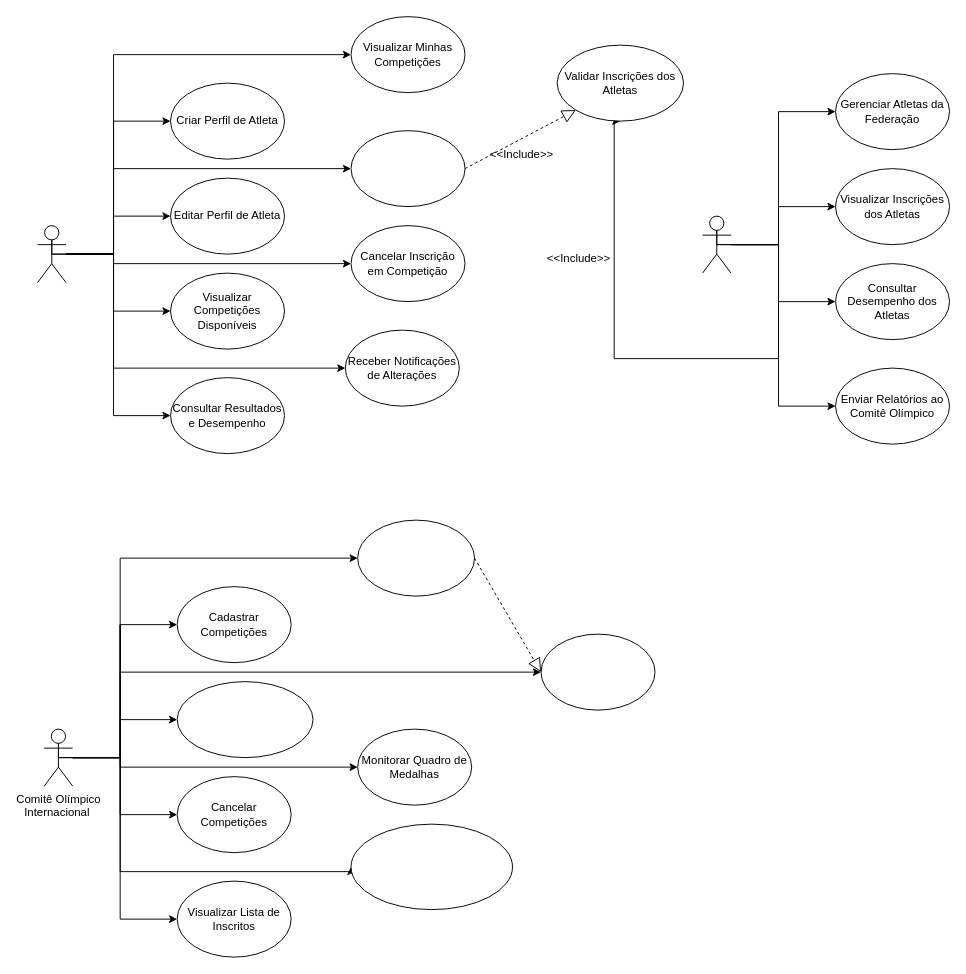
Image size: 966x974. Some labels were removed from this diagram. Here are the shapes that lost their labels. From the top down, the box of each, then its label:
(350, 130, 465, 207): Inscrever-se em Competição
(37, 225, 66, 283): Atleta
(702, 215, 731, 273): Federação
(357, 519, 475, 596): Registrar Resultados das Competições
(540, 633, 655, 710): Gerar Relatórios de Desempenho
(176, 681, 313, 758): Editar Informações de Competições
(350, 823, 513, 910): Validar Conformidade das Federações e Atletas
